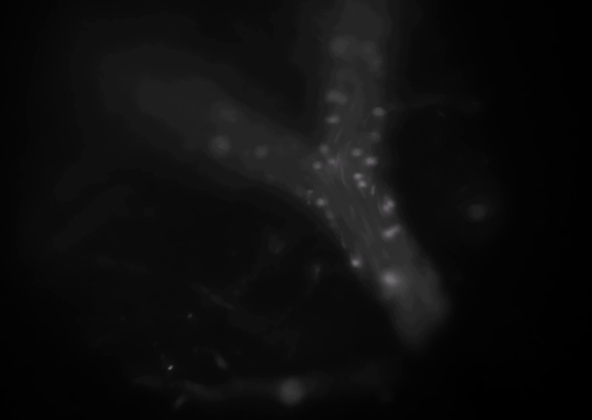cell: (372, 106, 386, 120), (350, 146, 364, 160), (364, 154, 378, 168), (318, 143, 332, 157), (310, 157, 324, 171), (326, 155, 340, 169), (324, 88, 338, 102), (352, 169, 366, 183), (334, 92, 348, 106), (354, 177, 368, 191), (348, 257, 362, 271), (383, 272, 397, 286), (381, 227, 395, 241), (384, 197, 398, 211), (389, 222, 403, 236), (380, 201, 394, 215), (315, 196, 329, 210), (302, 186, 316, 200), (255, 147, 269, 161), (212, 139, 226, 153), (363, 42, 377, 56), (369, 54, 383, 68), (334, 40, 348, 54), (369, 129, 383, 143), (326, 113, 340, 127)
